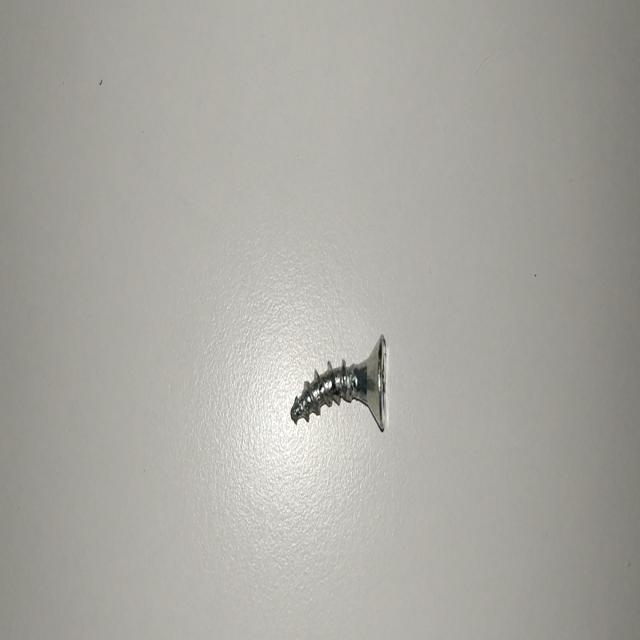Dry Waste: (288, 304, 428, 498)
